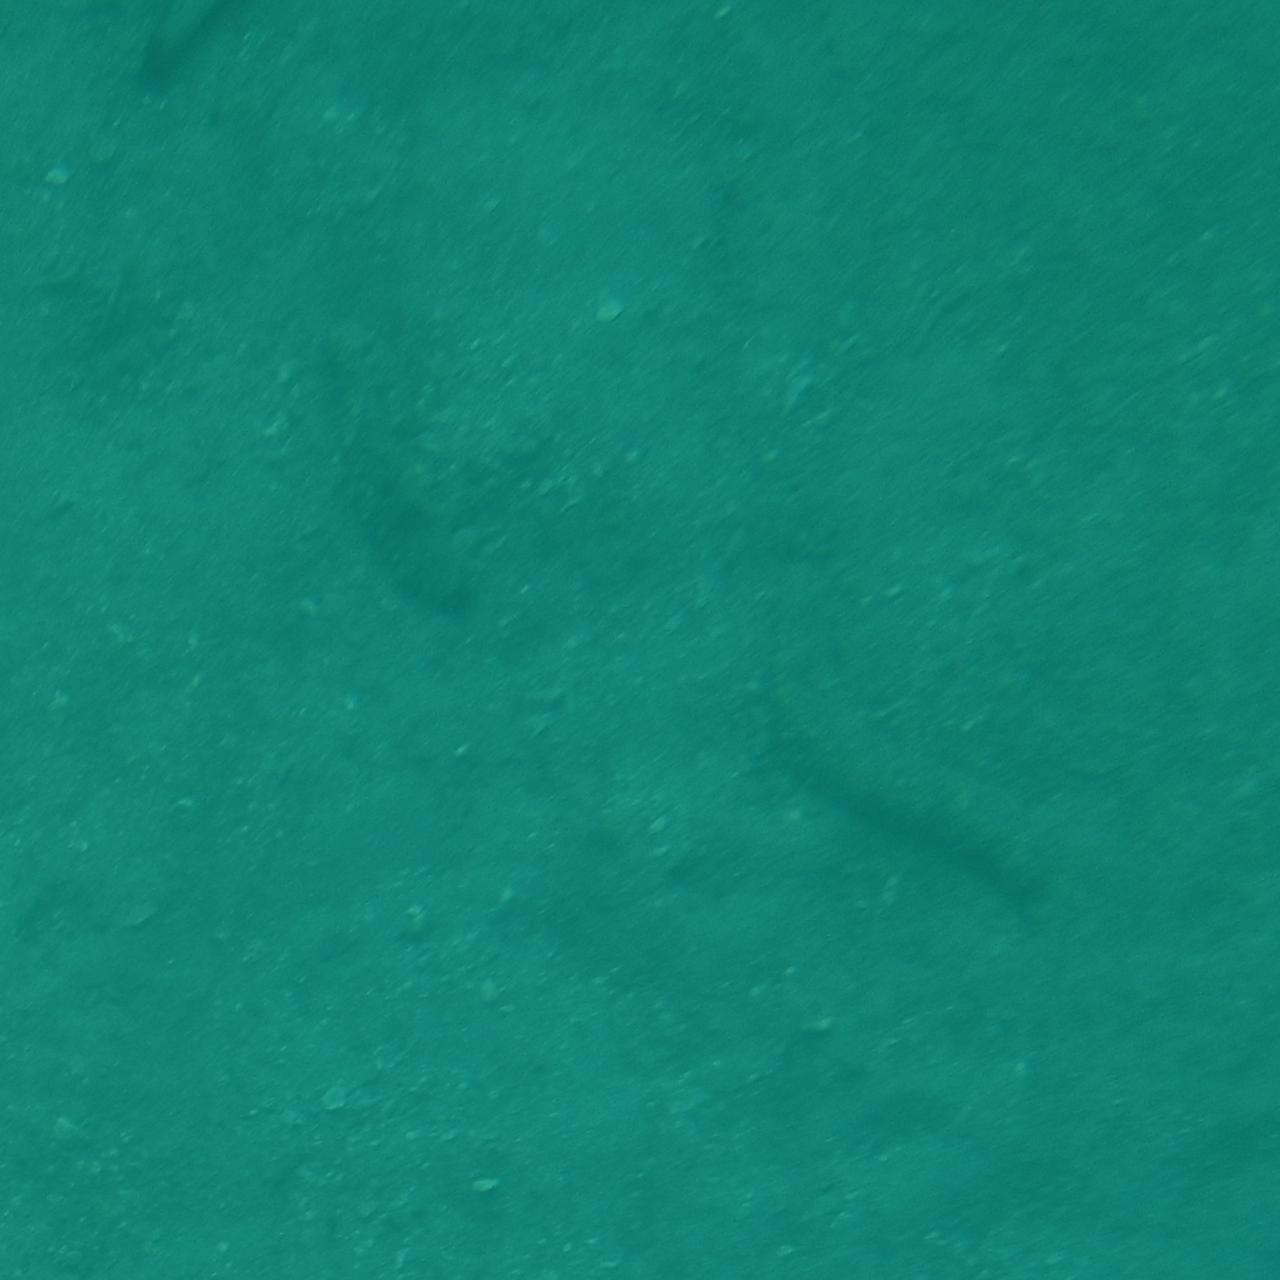Holothuria tubulosa: (702, 606, 1084, 940), (279, 313, 496, 629)
